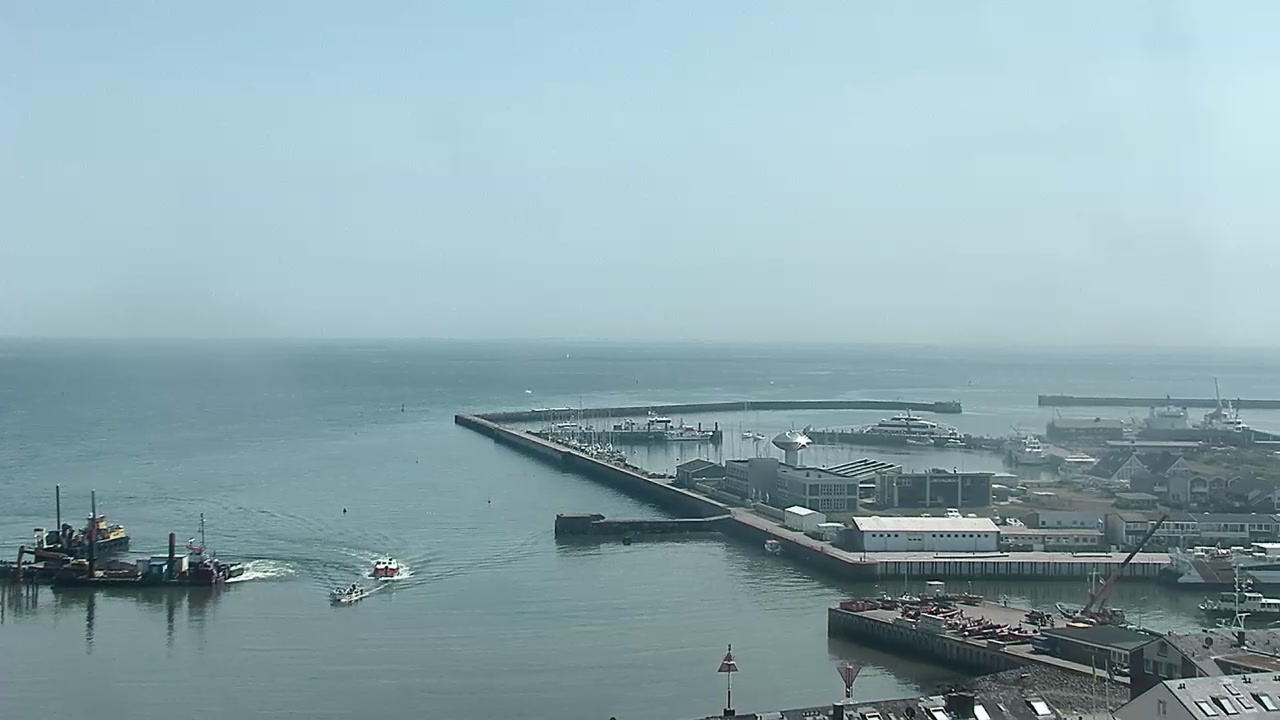human: (1000, 593, 1008, 609)
sea: (55, 512, 231, 584), (33, 481, 131, 558), (1159, 540, 1280, 589), (1056, 564, 1127, 623), (1199, 373, 1249, 433), (854, 406, 959, 433), (1196, 588, 1279, 618), (1143, 394, 1195, 429), (1013, 425, 1048, 465), (604, 408, 625, 458), (662, 421, 713, 440), (584, 408, 601, 455), (372, 551, 399, 579), (328, 583, 364, 603), (642, 414, 676, 430), (763, 538, 786, 556), (903, 433, 934, 446), (556, 418, 579, 431), (941, 436, 965, 447), (1005, 515, 1024, 528), (942, 506, 960, 518), (753, 430, 766, 440), (741, 429, 755, 438)
